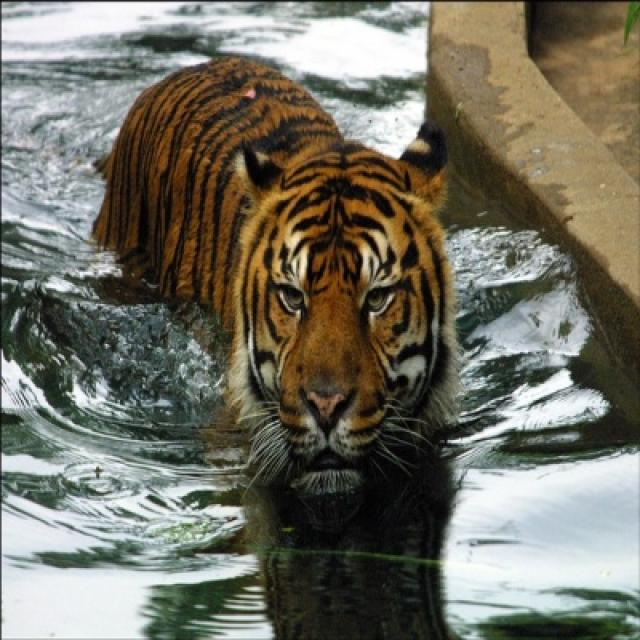Tiger: (93, 56, 456, 486)
